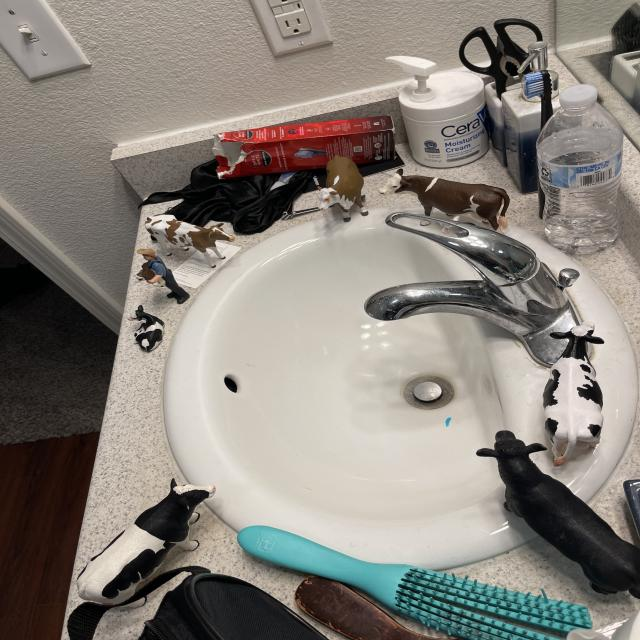cow: (464, 417, 640, 622), (65, 462, 237, 629), (376, 166, 514, 233), (542, 322, 604, 467), (139, 208, 238, 270), (312, 152, 369, 226), (119, 304, 172, 356), (133, 261, 157, 285)
person: (129, 243, 193, 311)
